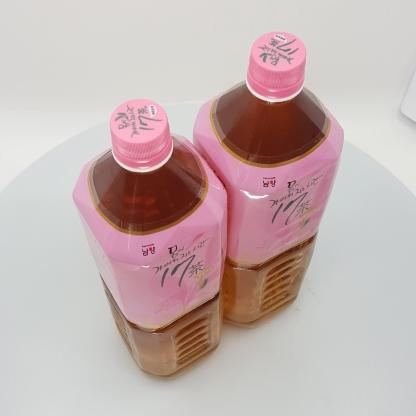--17-----1-5L: (192, 31, 344, 328), (72, 98, 228, 380)
